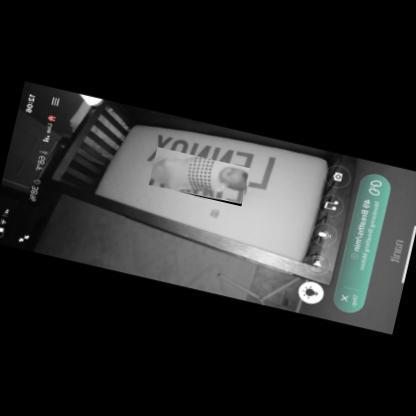baby: (151, 156, 249, 192)
